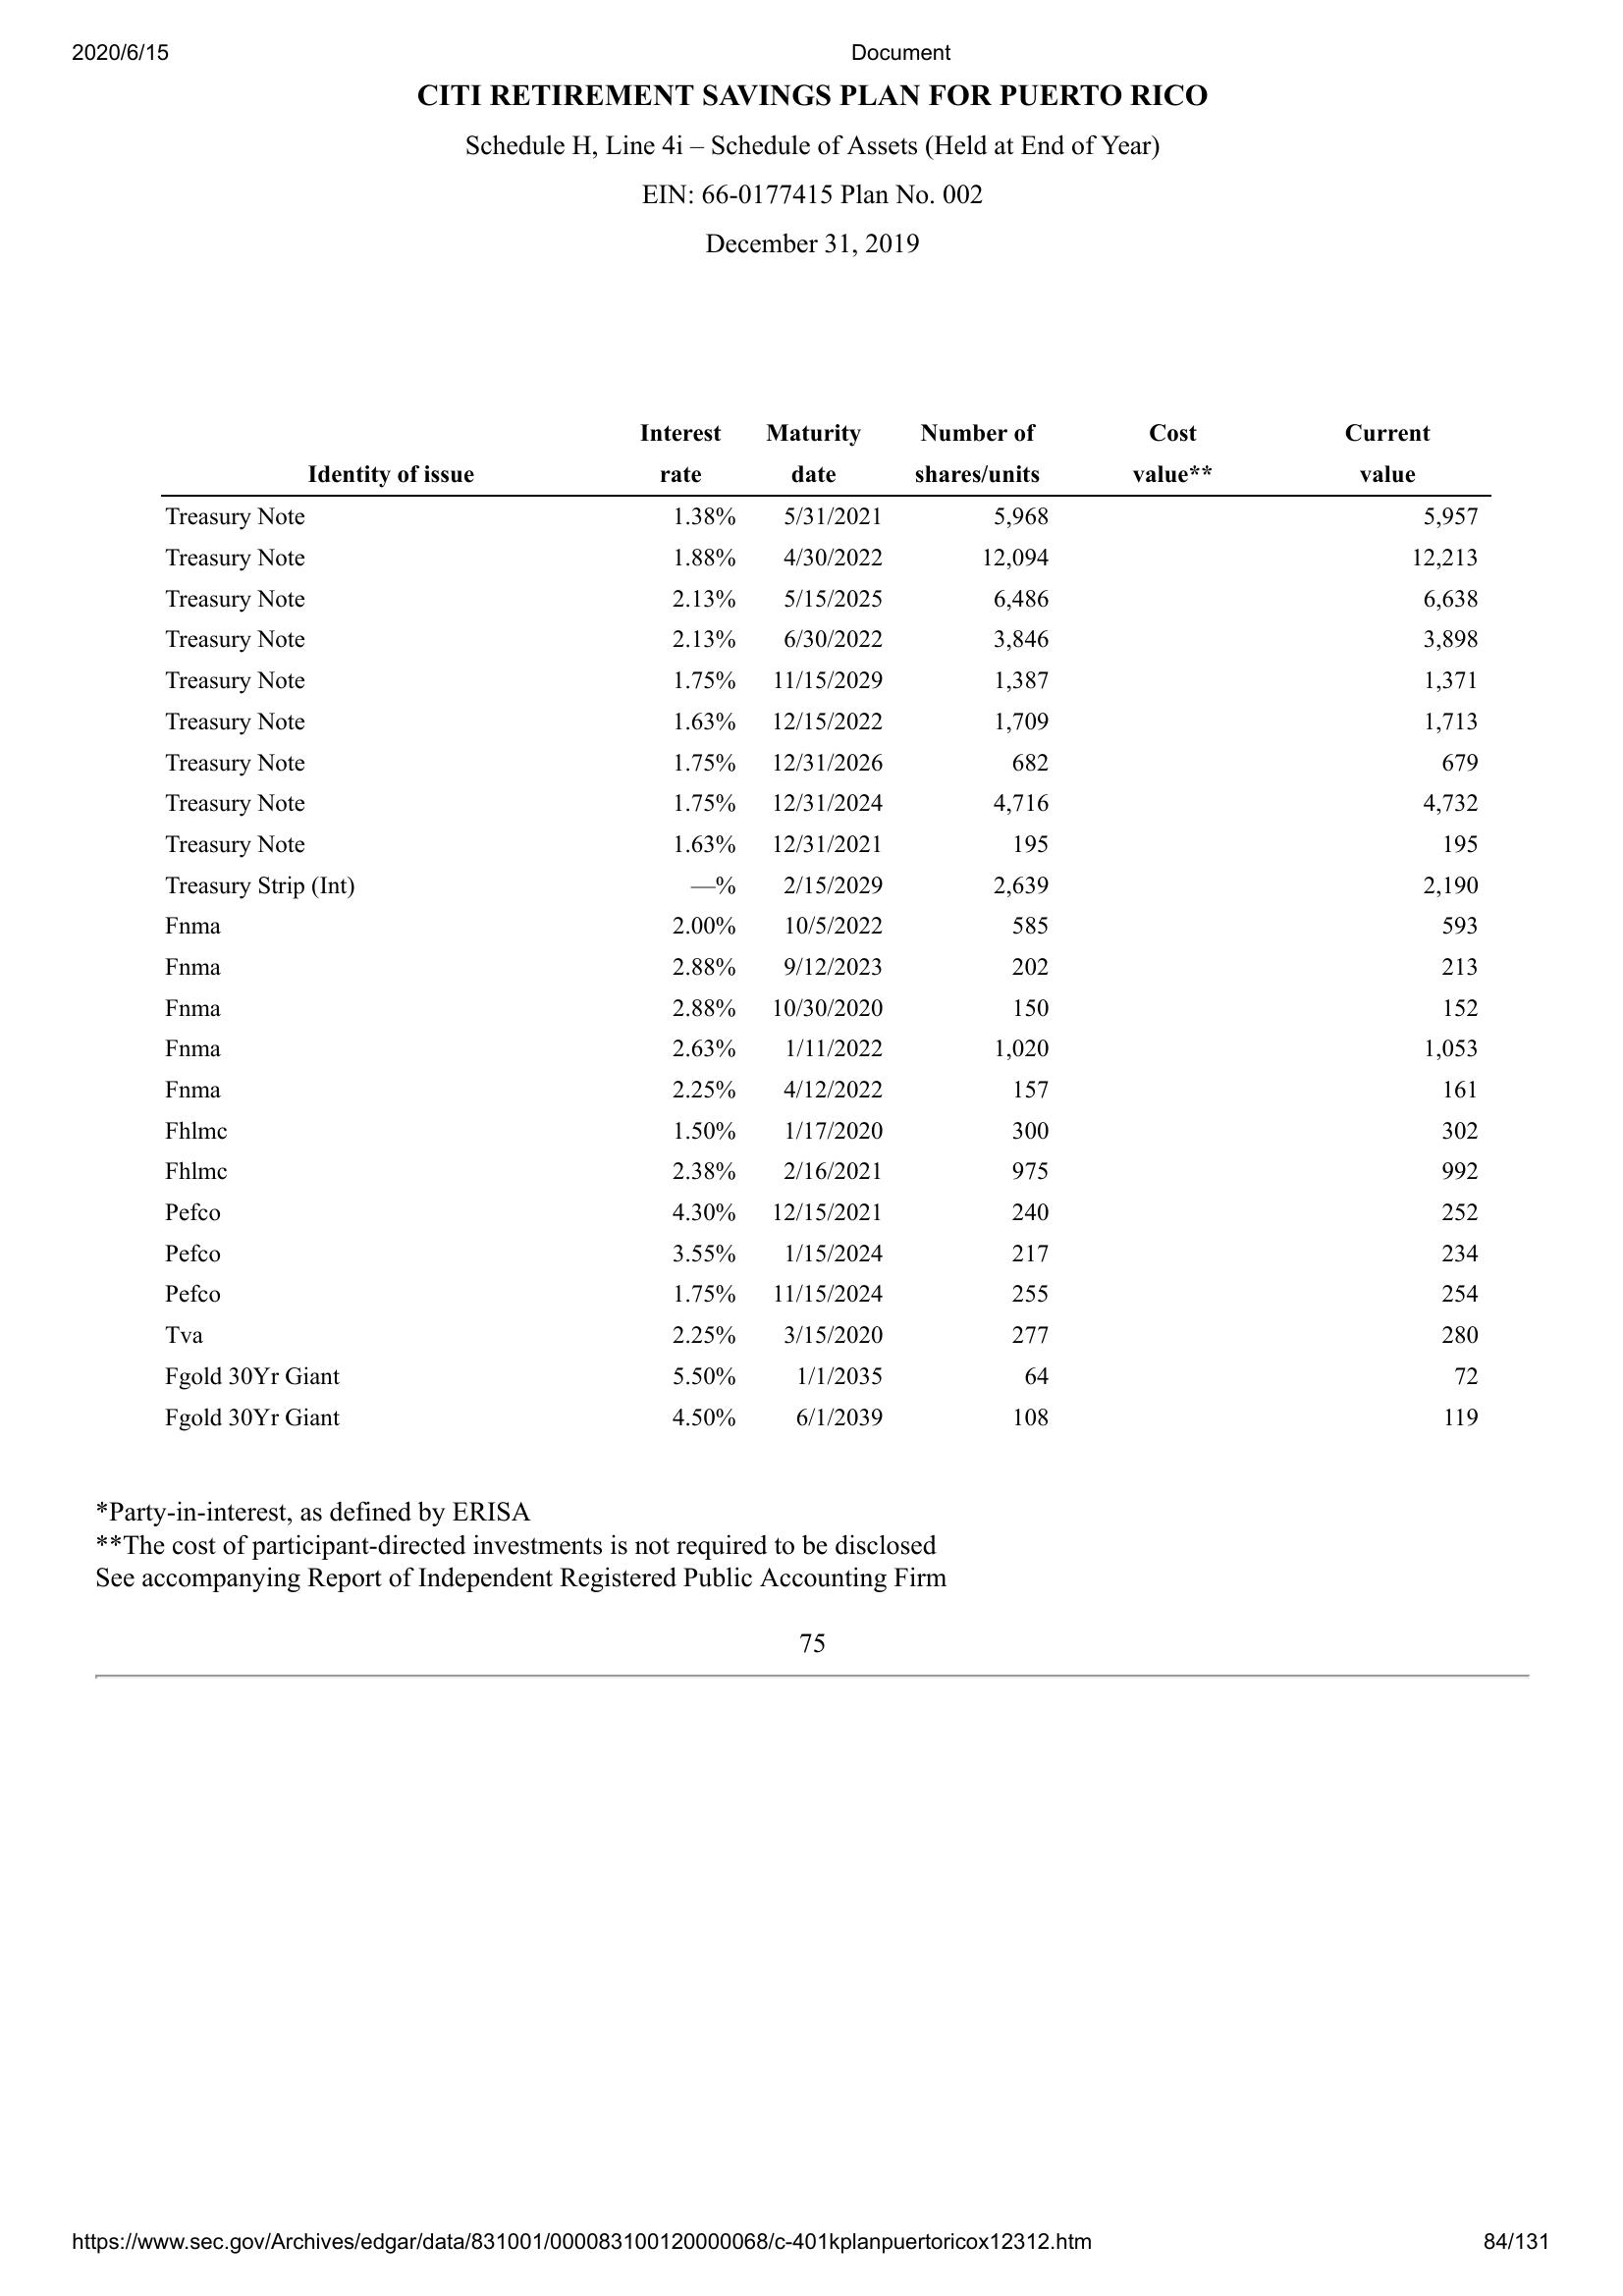table: (160, 421, 1493, 1436)
